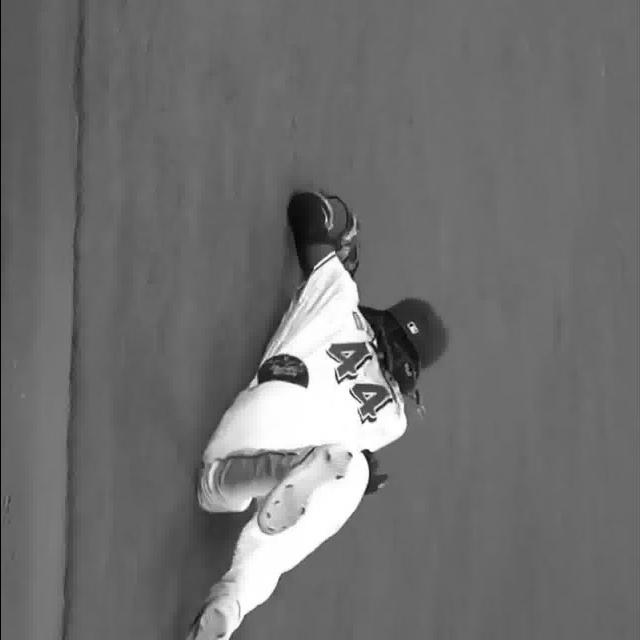shoe: (243, 439, 363, 542), (313, 204, 371, 275), (175, 596, 243, 640)
